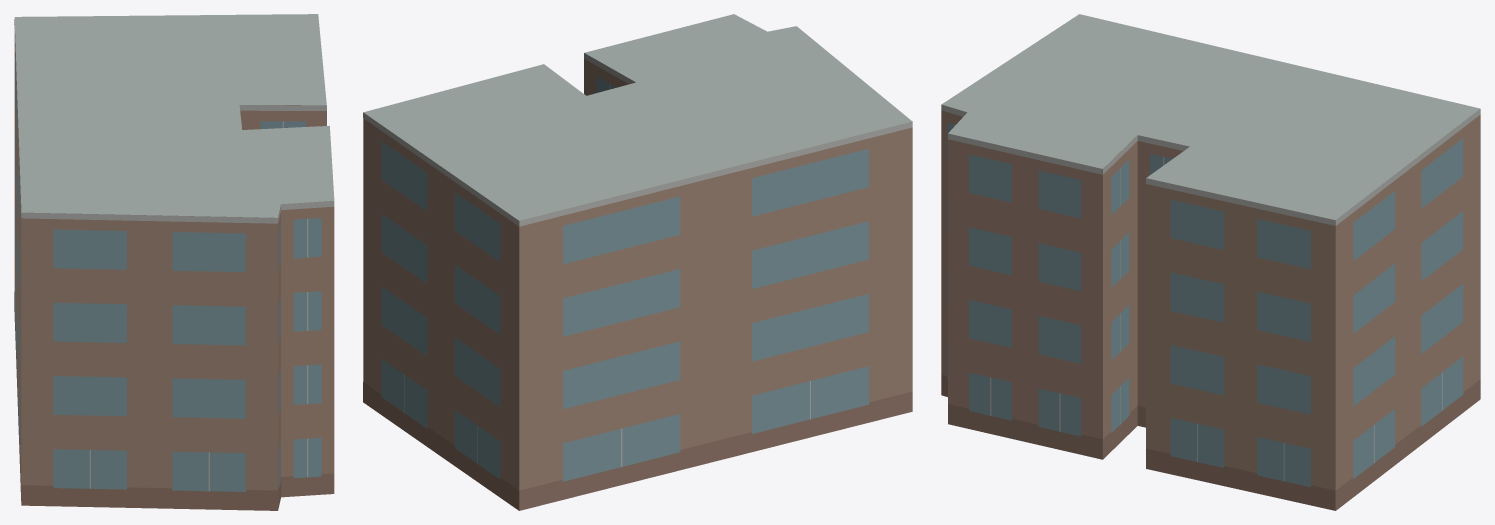
Rendered from survey-upis-32771268.glb.
The picture shows the model from 3 angles, left to right: view 1: azimuth 30°, elevation 25°; view 2: azimuth 150°, elevation 25°; view 3: azimuth 270°, elevation 25°; orthographic projection.
Parts seen in each view (by area): view 1: survey-upis-32771268.tmp; view 2: survey-upis-32771268.tmp; view 3: survey-upis-32771268.tmp.
Part boxes in pixels (x1,y1,x2,y2): survey-upis-32771268.tmp: [14, 14, 334, 510]; survey-upis-32771268.tmp: [363, 14, 912, 510]; survey-upis-32771268.tmp: [941, 14, 1480, 510].
Size of the model in its own units: 18.57 by 12.2 by 20.52.
